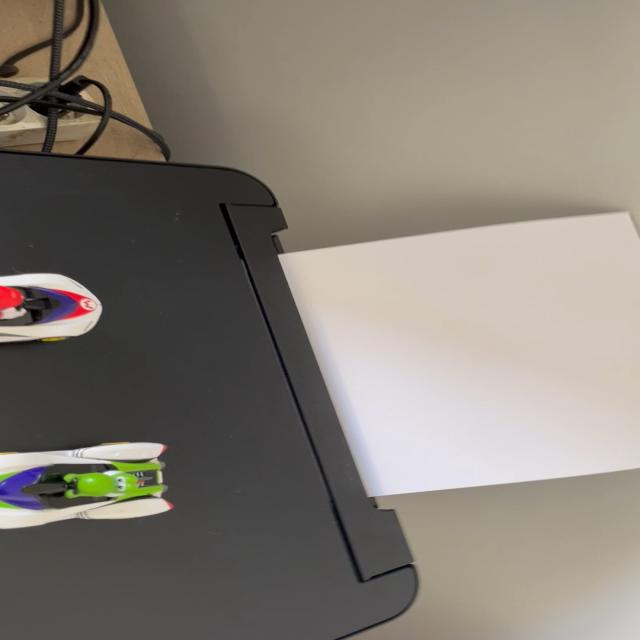mario: (0, 270, 120, 357)
yoshi: (1, 436, 190, 539)
